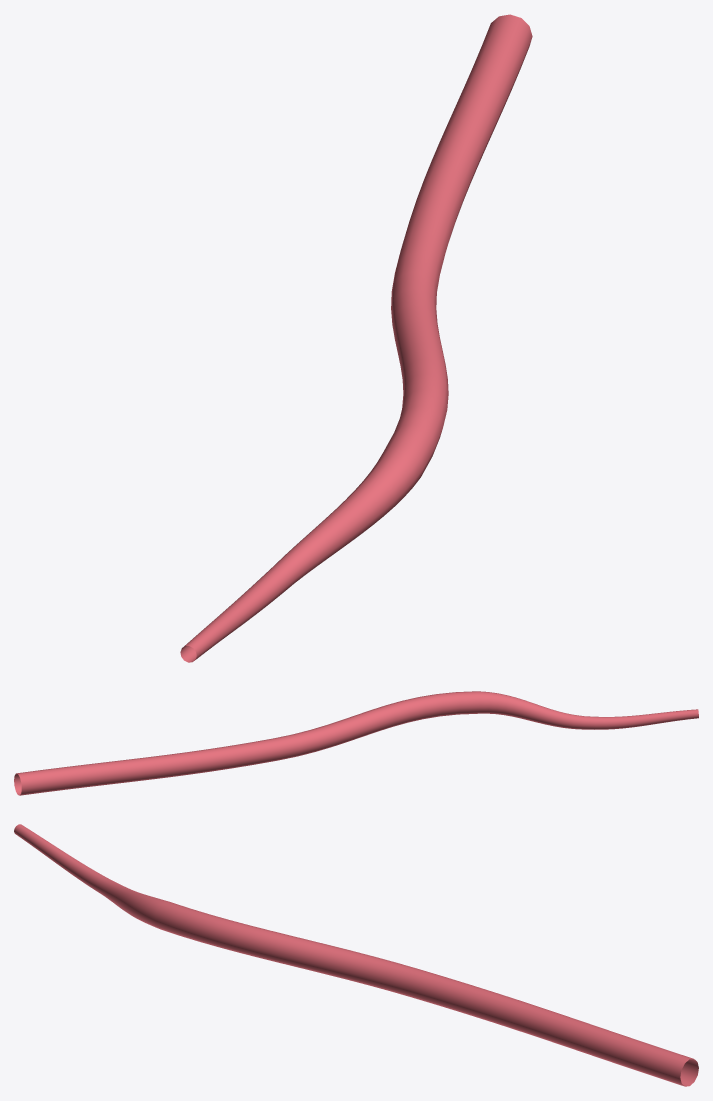
3 views of the same model, one above another, from view 1: azimuth 30°, elevation 25°; view 2: azimuth 150°, elevation 25°; view 3: azimuth 270°, elevation 25° (orthographic). The views are drawn at different scales.
Visible parts, largest first — view 1: ZA_b2939c3ccbc73db0; view 2: ZA_b2939c3ccbc73db0; view 3: ZA_b2939c3ccbc73db0.
Boxes of the visible parts, left/top/right/bottom form: ZA_b2939c3ccbc73db0: left=180, top=14, right=532, bottom=662; ZA_b2939c3ccbc73db0: left=14, top=691, right=698, bottom=795; ZA_b2939c3ccbc73db0: left=14, top=824, right=698, bottom=1086.
Size of the model in its own units: 0.0219 by 0.00186 by 0.0234.
